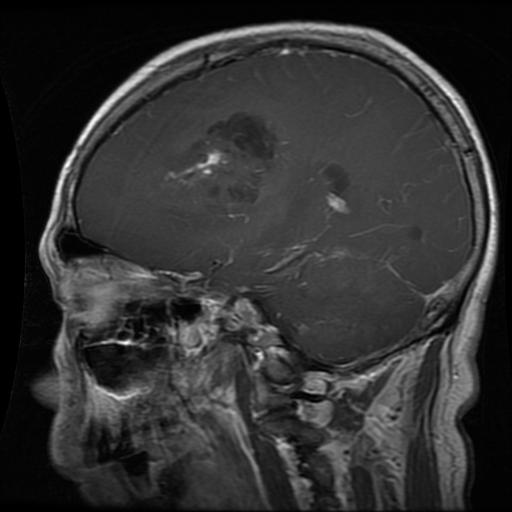Gliomia_tumour: (158, 111, 282, 204)
